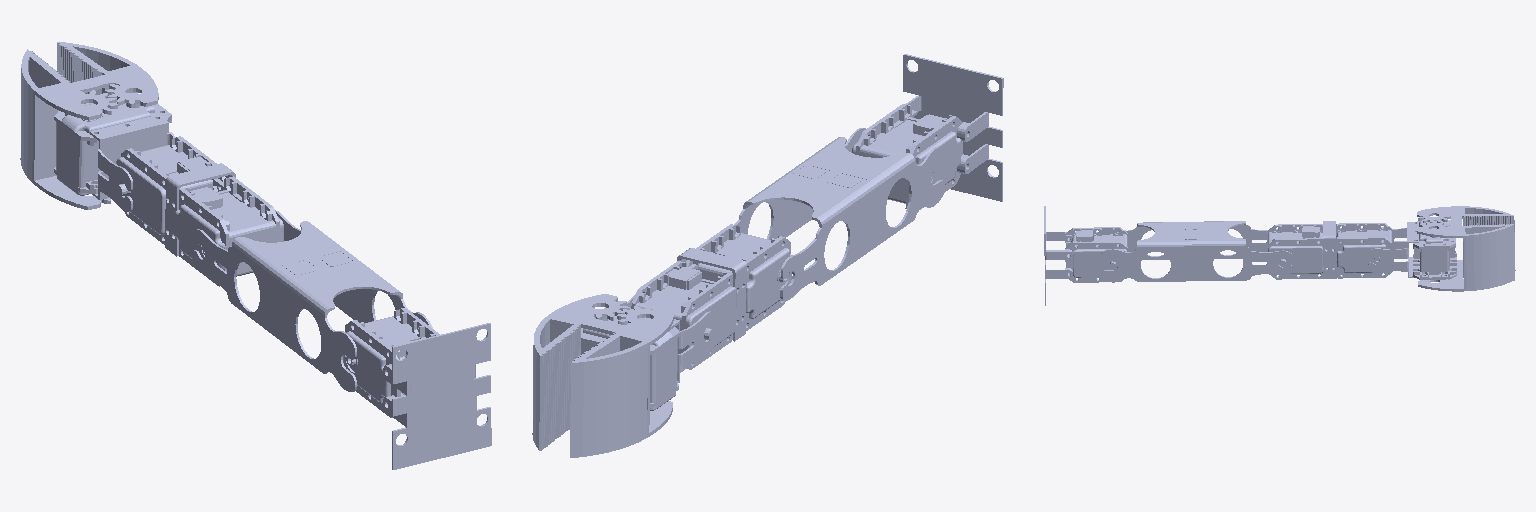
The robot description file, URDF, robot "robotino_arm_v2_udf":
<?xml version="1.0" encoding="utf-8"?>
<!-- This URDF was automatically created by SolidWorks to URDF Exporter! Originally created by [author] ([email redacted]) 
     Commit Version: 1.6.0-4-g7f85cfe  Build Version: 1.6.7995.38578
     For more information, please see http://wiki.ros.org/sw_urdf_exporter -->
<robot
  name="robotino_arm_v2_udf">
  <link
    name="base_link">
    <inertial>
      <origin
        xyz="-0.0370127633091683 0.019070320751848 0.144702744937737"
        rpy="0 0 0" />
      <mass
        value="0.0485300603816627" />
      <inertia
        ixx="1.21348391060661E-05"
        ixy="-1.83170561820002E-07"
        ixz="2.01283221627451E-09"
        iyy="1.03176250980936E-05"
        iyz="8.98306870809956E-08"
        izz="1.3705089569295E-05" />
    </inertial>
    <visual>
      <origin
        xyz="0 0 0"
        rpy="0 0 0" />
      <geometry>
        <mesh
          filename="package://robotino_arm_v2_udf/meshes/base_link.STL" />
      </geometry>
      <material
        name="">
        <color
          rgba="0.792156862745098 0.819607843137255 0.933333333333333 1" />
      </material>
    </visual>
    <collision>
      <origin
        xyz="0 0 0"
        rpy="0 0 0" />
      <geometry>
        <mesh
          filename="package://robotino_arm_v2_udf/meshes/base_link.STL" />
      </geometry>
    </collision>
  </link>
  <link name="world" />
    <joint name="fix" type="fixed">
        <parent link="world" />
        <child link="base_link" />
        <origin xyz="0.0 0.0 0.5" rpy="1.57 3.14 0.0" />
    </joint>
  <link
    name="L1">
    <inertial>
      <origin
        xyz="0.0218613397170321 -0.0643083979647138 -0.0106559317352375"
        rpy="0 0 0" />
      <mass
        value="0.0123298942666567" />
      <inertia
        ixx="1.86723406131852E-05"
        ixy="-3.47242222560863E-10"
        ixz="1.18024925877695E-09"
        iyy="6.09881410181813E-06"
        iyz="-8.12828881398934E-07"
        izz="2.15012069724987E-05" />
    </inertial>
    <visual>
      <origin
        xyz="0 0 0"
        rpy="0 0 0" />
      <geometry>
        <mesh
          filename="package://robotino_arm_v2_udf/meshes/L1.STL" />
      </geometry>
      <material
        name="">
        <color
          rgba="0.792156862745098 0.819607843137255 0.933333333333333 1" />
      </material>
    </visual>
    <collision>
      <origin
        xyz="0 0 0"
        rpy="0 0 0" />
      <geometry>
        <mesh
          filename="package://robotino_arm_v2_udf/meshes/L1.STL" />
      </geometry>
    </collision>
  </link>
  <joint
    name="J1"
    type="continuous">
    <origin
      xyz="-0.015177 -0.14501 0.0031767"
      rpy="1.5325 -1.6571E-05 3.1412" />
    <parent
      link="base_link" />
    <child
      link="L1" />
    <axis
      xyz="1 0 -0.00043232" />
    <limit
      lower="0"
      upper="1.8"
      effort="10"
      velocity="0.2" />
  </joint>
  <link
    name="L2">
    <inertial>
      <origin
        xyz="0.0218828627980577 0.002734641651011 0.0384853882508786"
        rpy="0 0 0" />
      <mass
        value="0.0879186008437833" />
      <inertia
        ixx="2.08913128379421E-05"
        ixy="2.66064625040772E-08"
        ixz="3.62172435526932E-07"
        iyy="2.46188638028951E-05"
        iyz="-6.75708643034757E-07"
        izz="1.5509544710887E-05" />
    </inertial>
    <visual>
      <origin
        xyz="0 0 0"
        rpy="0 0 0" />
      <geometry>
        <mesh
          filename="package://robotino_arm_v2_udf/meshes/L2.STL" />
      </geometry>
      <material
        name="">
        <color
          rgba="0.792156862745098 0.819607843137255 0.933333333333333 1" />
      </material>
    </visual>
    <collision>
      <origin
        xyz="0 0 0"
        rpy="0 0 0" />
      <geometry>
        <mesh
          filename="package://robotino_arm_v2_udf/meshes/L2.STL" />
      </geometry>
    </collision>
  </link>
  <joint
    name="J2"
    type="continuous">
    <origin
      xyz="0 -0.13842 -0.0076949"
      rpy="1.7 0.00048802 -0.00042872" />
    <parent
      link="L1" />
    <child
      link="L2" />
    <axis
      xyz="1 0 -0.00043232" />
    <limit
      lower="-1.8"
      upper="1.8"
      effort="10"
      velocity="0.2" />
  </joint>
  <link
    name="L3">
    <inertial>
      <origin
        xyz="0.0210324963278343 0.00345434614035189 0.0443927660933133"
        rpy="0 0 0" />
      <mass
        value="0.0470068003445836" />
      <inertia
        ixx="8.27072638092313E-06"
        ixy="1.82174461954528E-07"
        ixz="-1.31004150631563E-08"
        iyy="1.15598328470863E-05"
        iyz="1.42985163489217E-07"
        izz="1.33891638883011E-05" />
    </inertial>
    <visual>
      <origin
        xyz="0 0 0"
        rpy="0 0 0" />
      <geometry>
        <mesh
          filename="package://robotino_arm_v2_udf/meshes/L3.STL" />
      </geometry>
      <material
        name="">
        <color
          rgba="0.792156862745098 0.819607843137255 0.933333333333333 1" />
      </material>
    </visual>
    <collision>
      <origin
        xyz="0 0 0"
        rpy="0 0 0" />
      <geometry>
        <mesh
          filename="package://robotino_arm_v2_udf/meshes/L3.STL" />
      </geometry>
    </collision>
  </link>
  <joint
    name="J3"
    type="revolute">
    <origin
      xyz="3.3285E-05 0.0056816 0.076991"
      rpy="0.0042565 0 0" />
    <parent
      link="L2" />
    <child
      link="L3" />
    <axis
      xyz="1 0 -0.00043232" />
    <limit
      lower="-1.8"
      upper="1.8"
      effort="10"
      velocity="0.2" />
  </joint>
  <link
    name="GR">
    <inertial>
      <origin
        xyz="-0.00443543982926508 -4.33266183444692E-05 -0.0353860660374369"
        rpy="0 0 0" />
      <mass
        value="0.0182294853598354" />
      <inertia
        ixx="1.0394691303712E-05"
        ixy="4.83375753942016E-10"
        ixz="9.97321914417416E-08"
        iyy="6.1120326767523E-06"
        iyz="7.72174800352589E-10"
        izz="5.70322869333795E-06" />
    </inertial>
    <visual>
      <origin
        xyz="0 0 0"
        rpy="0 0 0" />
      <geometry>
        <mesh
          filename="package://robotino_arm_v2_udf/meshes/GR.STL" />
      </geometry>
      <material
        name="">
        <color
          rgba="0.792156862745098 0.819607843137255 0.933333333333333 1" />
      </material>
    </visual>
    <collision>
      <origin
        xyz="0 0 0"
        rpy="0 0 0" />
      <geometry>
        <mesh
          filename="package://robotino_arm_v2_udf/meshes/GR.STL" />
      </geometry>
    </collision>
  </link>
  <joint
    name="J4"
    type="revolute">
    <origin
      xyz="0.0094213 0.0036281 0.046465"
      rpy="3.0636 0.029147 -0.0022426" />
    <parent
      link="L3" />
    <child
      link="GR" />
    <axis
      xyz="0 1 0" />
    <limit
      lower="-1.8"
      upper="1.8"
      effort="10"
      velocity="0.2" />
  </joint>
  <link
    name="GL">
    <inertial>
      <origin
        xyz="-0.00437064923464174 4.60766456037431E-05 -0.0358117241638067"
        rpy="0 0 0" />
      <mass
        value="0.0180904804143949" />
      <inertia
        ixx="1.04915012930938E-05"
        ixy="-9.96819798756622E-10"
        ixz="1.62170559104411E-07"
        iyy="6.34402248985625E-06"
        iyz="-1.9482740956521E-09"
        izz="5.68223727875759E-06" />
    </inertial>
    <visual>
      <origin
        xyz="0 0 0"
        rpy="0 0 0" />
      <geometry>
        <mesh
          filename="package://robotino_arm_v2_udf/meshes/GL.STL" />
      </geometry>
      <material
        name="">
        <color
          rgba="0.792156862745098 0.819607843137255 0.933333333333333 1" />
      </material>
    </visual>
    <collision>
      <origin
        xyz="0 0 0"
        rpy="0 0 0" />
      <geometry>
        <mesh
          filename="package://robotino_arm_v2_udf/meshes/GL.STL" />
      </geometry>
    </collision>
  </link>
  <joint
    name="J5"
    type="revolute">
    <origin
      xyz="0.03407 0.0036281 0.046454"
      rpy="-3.0636 0.040018 -3.1384" />
    <parent
      link="L3" />
    <child
      link="GL" />
    <axis
      xyz="0 1 0" />
    <limit
      lower="-1.8"
      upper="1.8"
      effort="10"
      velocity="0.2" />
    <mimic
      joint="J4"
      multiplier="1"
      offset="0" />
  </joint>
</robot>

--- Render facts (derived) ---
The picture shows the robot from 3 angles, left to right: view 1: azimuth 30°, elevation 25°; view 2: azimuth 150°, elevation 25°; view 3: azimuth 270°, elevation 25°; orthographic projection.
Model robotino_arm_v2_udf with 7 links and 6 joints (3 revolute, 2 continuous, 1 fixed), rooted at world, posed all joints at 0.
Links seen in each view (by area): view 1: base_link, L1, L2, L3, GR, GL; view 2: L1, base_link, L2, GR, GL, L3; view 3: L1, L2, GL, base_link, L3, GR.
Link boxes in pixels (left/top/right/bottom): base_link: left=343, top=308, right=491, bottom=469; L1: left=193, top=210, right=432, bottom=391; L2: left=116, top=136, right=283, bottom=286; L3: left=54, top=93, right=175, bottom=211; GR: left=20, top=49, right=117, bottom=209; GL: left=57, top=42, right=158, bottom=107; L1: left=734, top=128, right=945, bottom=300; base_link: left=852, top=54, right=1003, bottom=209; L2: left=631, top=224, right=791, bottom=369; GR: left=570, top=305, right=673, bottom=457; GL: left=532, top=294, right=629, bottom=450; L3: left=581, top=295, right=715, bottom=410; L1: left=1101, top=221, right=1292, bottom=282; L2: left=1268, top=221, right=1392, bottom=279; GL: left=1417, top=221, right=1514, bottom=291; base_link: left=1044, top=206, right=1127, bottom=305; L3: left=1368, top=220, right=1456, bottom=279; GR: left=1417, top=206, right=1515, bottom=273.
Size in the robot's own frame: 0.0576 by 0.3843 by 0.0653 metres.
Meshes: 6 distinct files referenced, 6 mesh visuals loaded (6 binary STL).